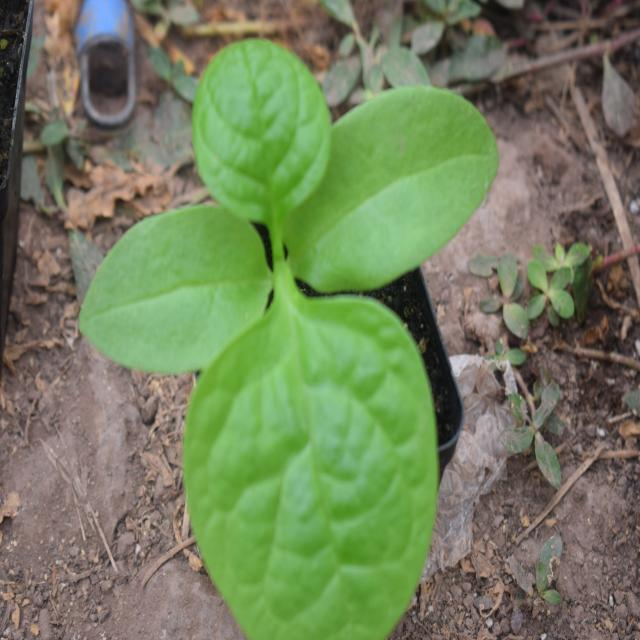Ceylon spinach: (120, 53, 500, 602)
